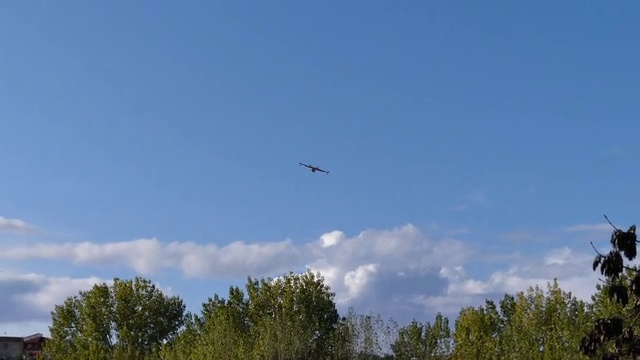plane: (298, 160, 329, 176)
